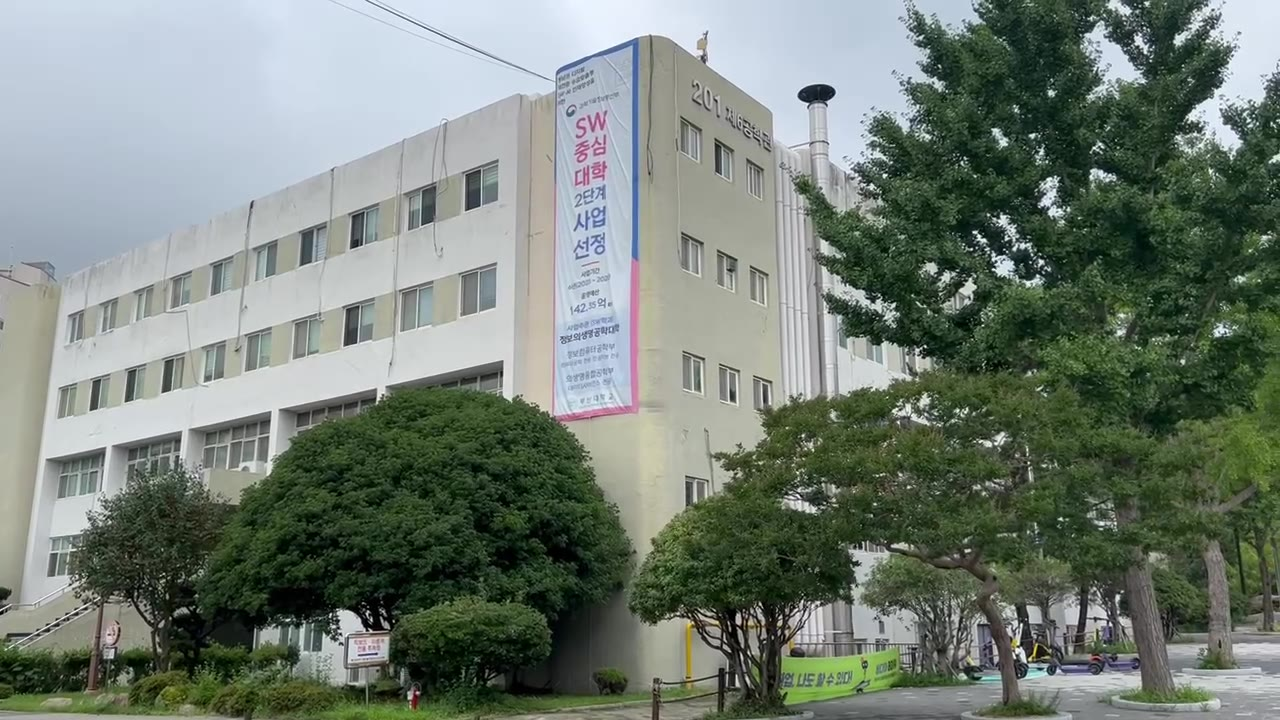low: (12, 172, 547, 394)
